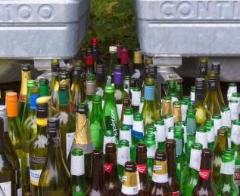glass: (0, 36, 240, 196)
